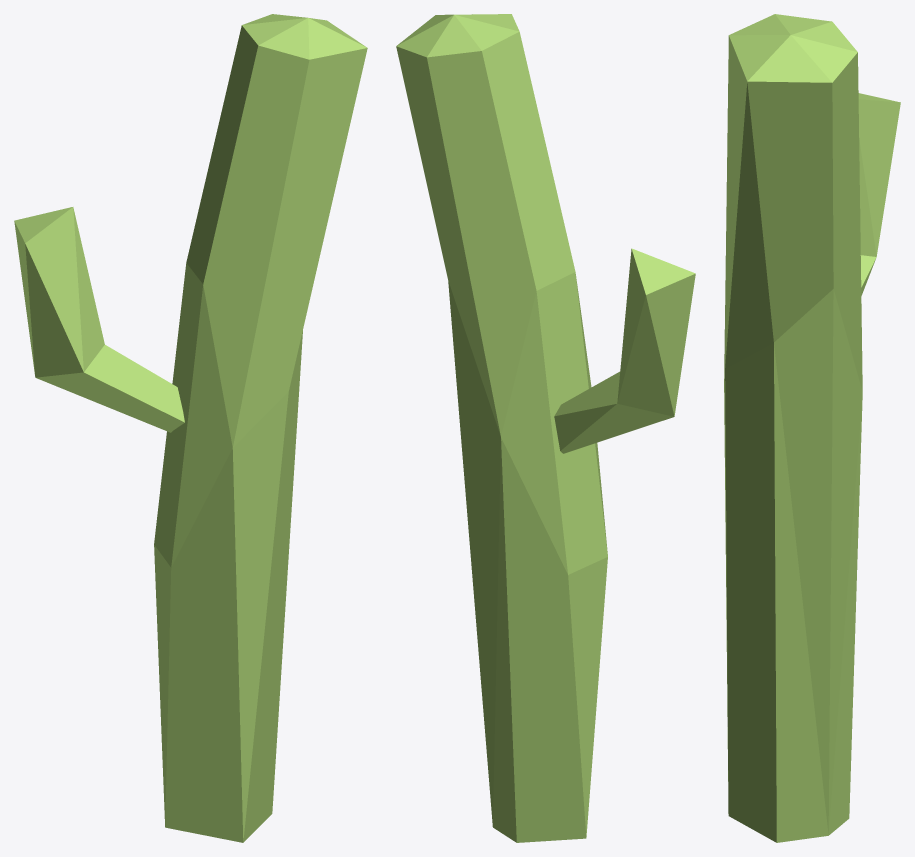
The model's file is cactus2.fbx.
3 renders of one model, left to right at view 1: azimuth 30°, elevation 25°; view 2: azimuth 150°, elevation 25°; view 3: azimuth 270°, elevation 25°, orthographic. The views are drawn at different scales.
Parts seen in each view (by area): view 1: Cactus_b_m_04; view 2: Cactus_b_m_04; view 3: Cactus_b_m_04.
Boxes of the visible parts, x1,y1,x2,y2 form: Cactus_b_m_04: (14, 14, 367, 842); Cactus_b_m_04: (396, 14, 695, 842); Cactus_b_m_04: (724, 14, 900, 842).
Size of the model in its own units: 42.92 by 89.53 by 222.
1 material, 1 textured.
